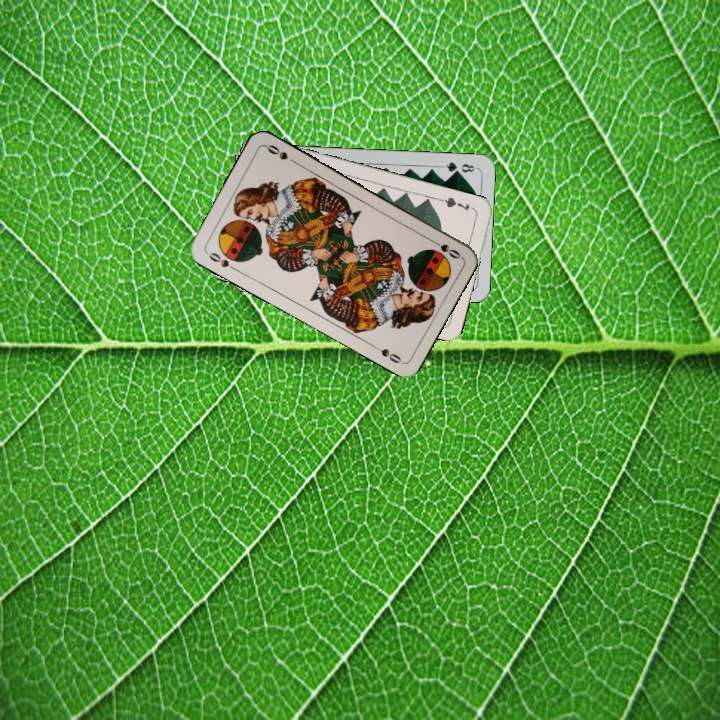G7: (438, 193, 478, 214)
G8: (439, 158, 479, 176)
SO: (202, 248, 240, 274), (426, 235, 463, 261)
